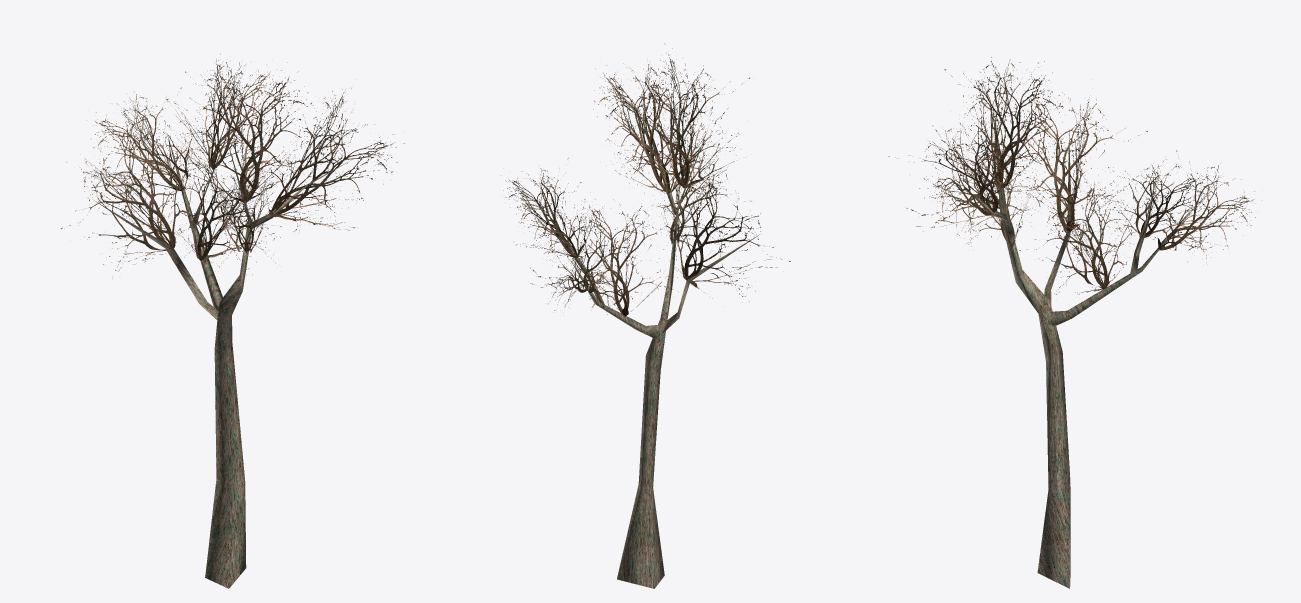
File: decd_dogwoodtreebranches_a1_l1.fbx
The picture shows the model from 3 angles, left to right: view 1: azimuth 30°, elevation 25°; view 2: azimuth 150°, elevation 25°; view 3: azimuth 270°, elevation 25°; orthographic projection. The views are drawn at different scales.
Parts seen in each view (by area): view 1: mesh_node; view 2: mesh_node; view 3: mesh_node.
Part boxes in pixels (left/top/right/bottom): mesh_node: left=61, top=54, right=404, bottom=588; mesh_node: left=503, top=43, right=790, bottom=588; mesh_node: left=888, top=57, right=1255, bottom=588.
Bounding box in the file's own units: 13.28 × 21.1 × 15.36.
